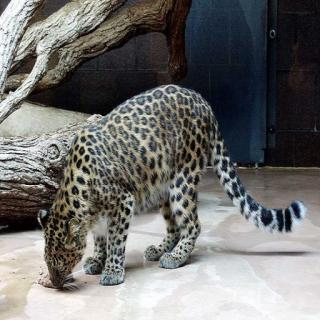Leopard: (22, 85, 311, 295)
